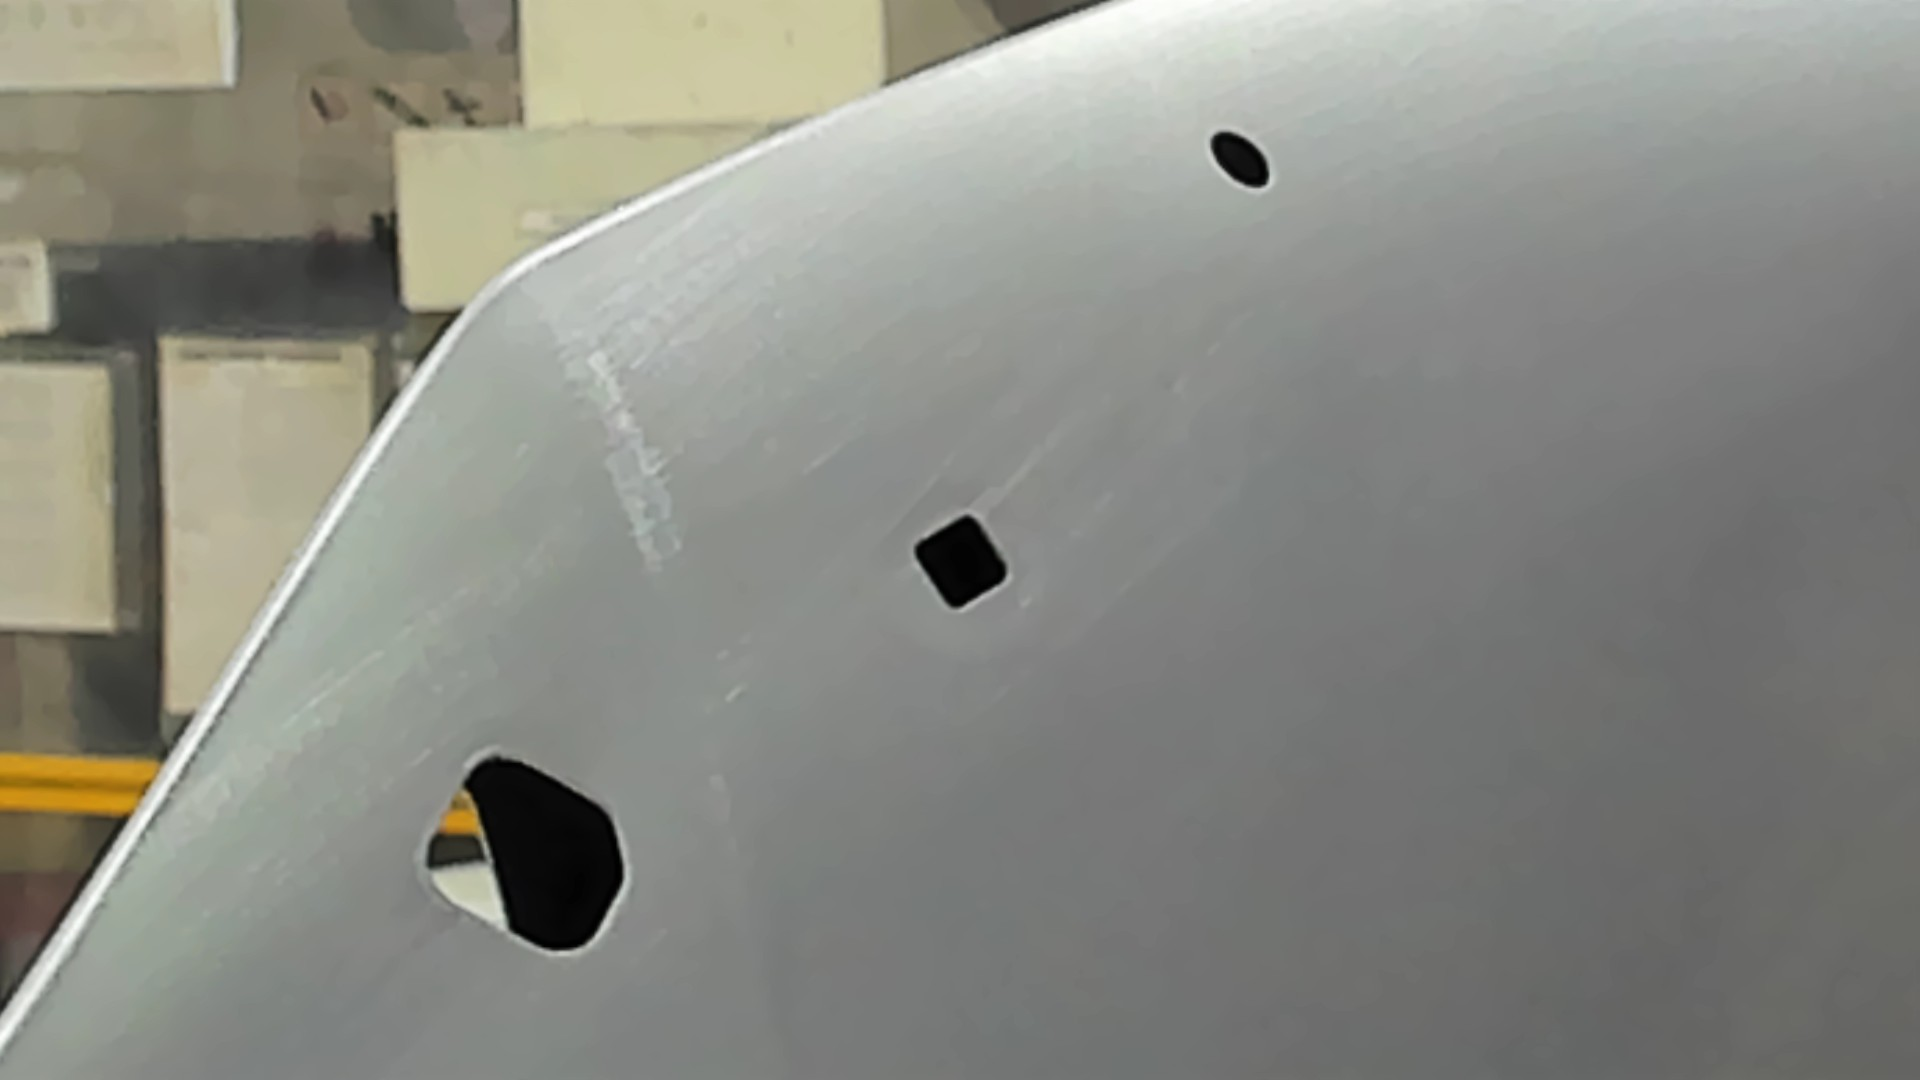chico: (1205, 124, 1274, 193)
grande: (414, 742, 640, 961)
mediano: (906, 505, 1014, 617)
